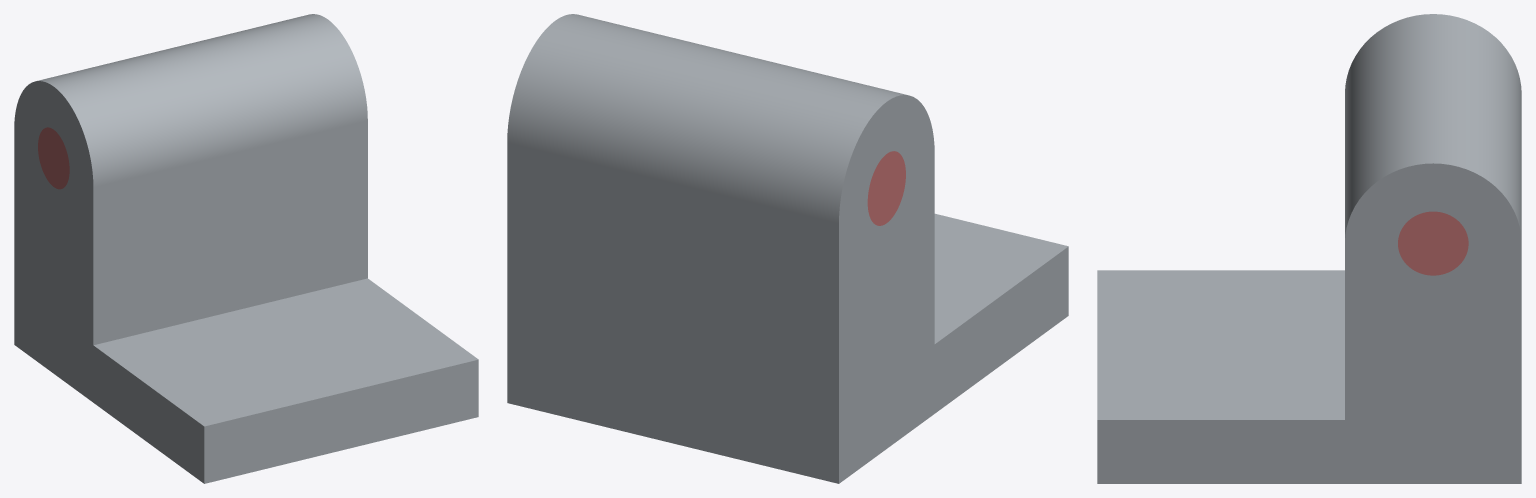
The model's file is step_03.glb.
The picture shows the model from 3 angles, left to right: view 1: azimuth 30°, elevation 25°; view 2: azimuth 150°, elevation 25°; view 3: azimuth 270°, elevation 25°; orthographic projection. The views are drawn at different scales.
Visible parts, largest first — view 1: part__Worksheet 13 bracket, removed__Worksheet 13 bracket; view 2: part__Worksheet 13 bracket, removed__Worksheet 13 bracket; view 3: part__Worksheet 13 bracket, removed__Worksheet 13 bracket.
Part boxes in pixels (bbox=[...]): part__Worksheet 13 bracket: bbox=[14, 14, 478, 483]; removed__Worksheet 13 bracket: bbox=[38, 127, 69, 189]; part__Worksheet 13 bracket: bbox=[507, 14, 1068, 483]; removed__Worksheet 13 bracket: bbox=[867, 151, 905, 225]; part__Worksheet 13 bracket: bbox=[1097, 14, 1521, 483]; removed__Worksheet 13 bracket: bbox=[1398, 211, 1468, 275].
Bounding box in the file's own units: 100 × 100 × 120.
